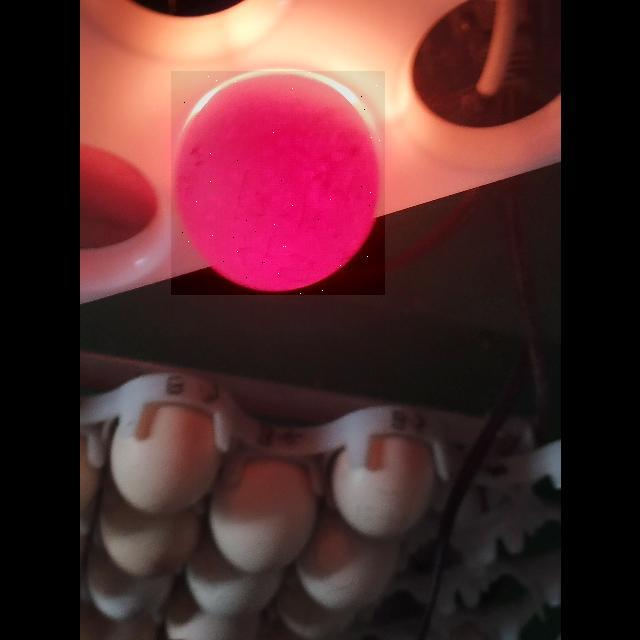Infertile: (171, 71, 385, 295)
